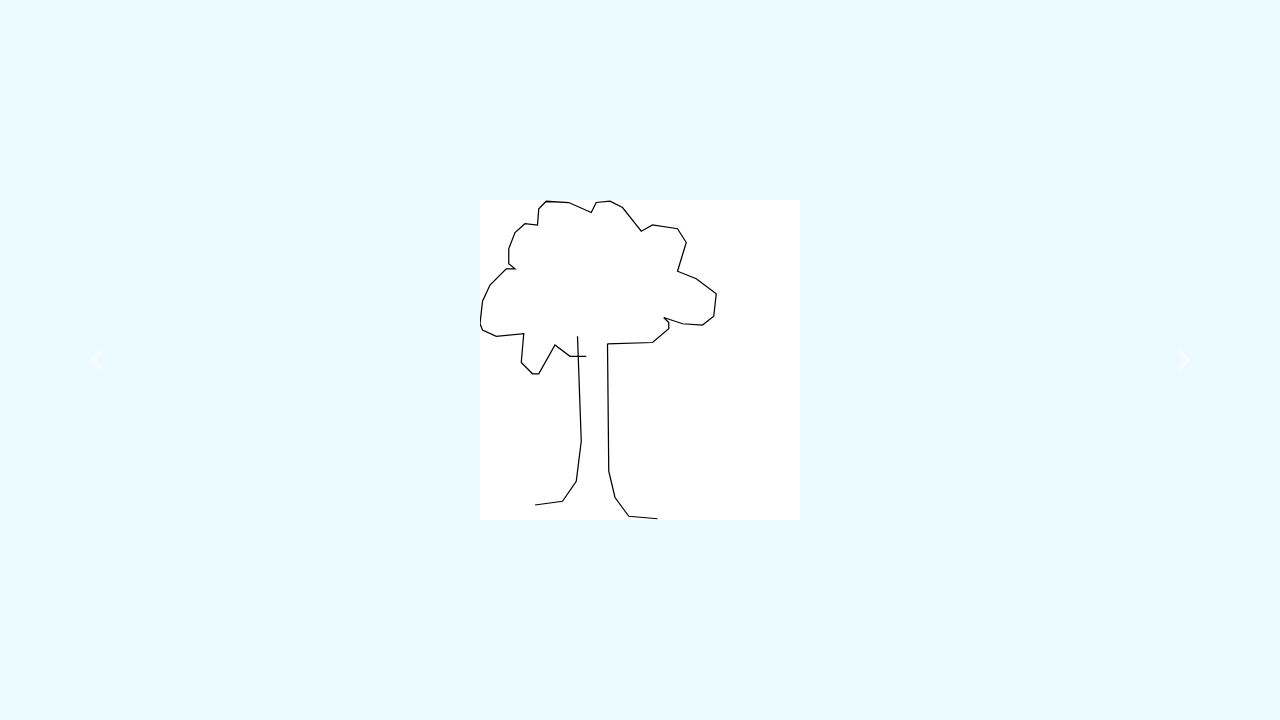tree: (473, 195, 725, 526)
